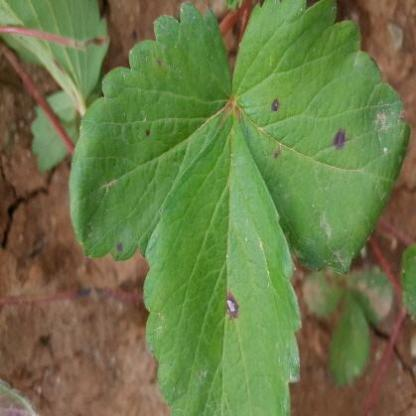Strawberry_Leaf_Spot: (142, 100, 303, 415), (232, 0, 412, 278), (68, 1, 234, 262), (302, 268, 352, 321)
